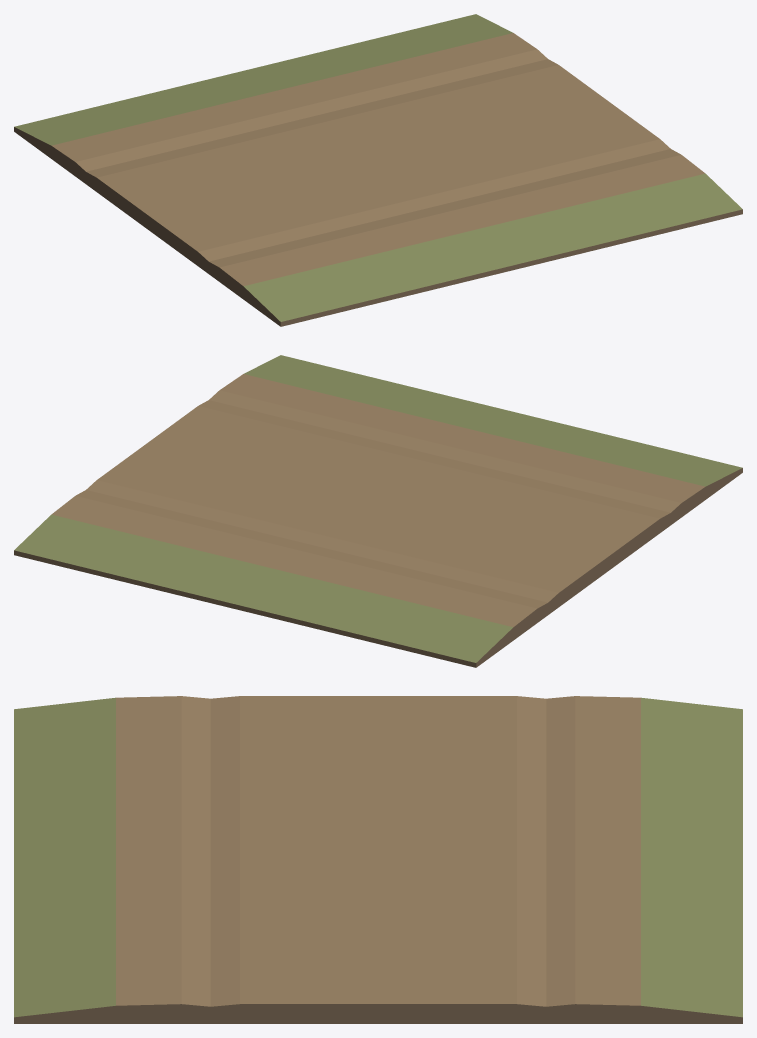
3 renders of one model, top to bottom at view 1: azimuth 30°, elevation 25°; view 2: azimuth 150°, elevation 25°; view 3: azimuth 270°, elevation 25°, orthographic. The views are drawn at different scales.
Visible parts, largest first — view 1: village-soil-road-straight-2m-01; view 2: village-soil-road-straight-2m-01; view 3: village-soil-road-straight-2m-01.
Part boxes in pixels (bbox=[...]): village-soil-road-straight-2m-01: bbox=[14, 14, 742, 326]; village-soil-road-straight-2m-01: bbox=[14, 355, 742, 667]; village-soil-road-straight-2m-01: bbox=[14, 696, 742, 1023].
Bounding box in the file's own units: 2 × 0.06 × 2.
